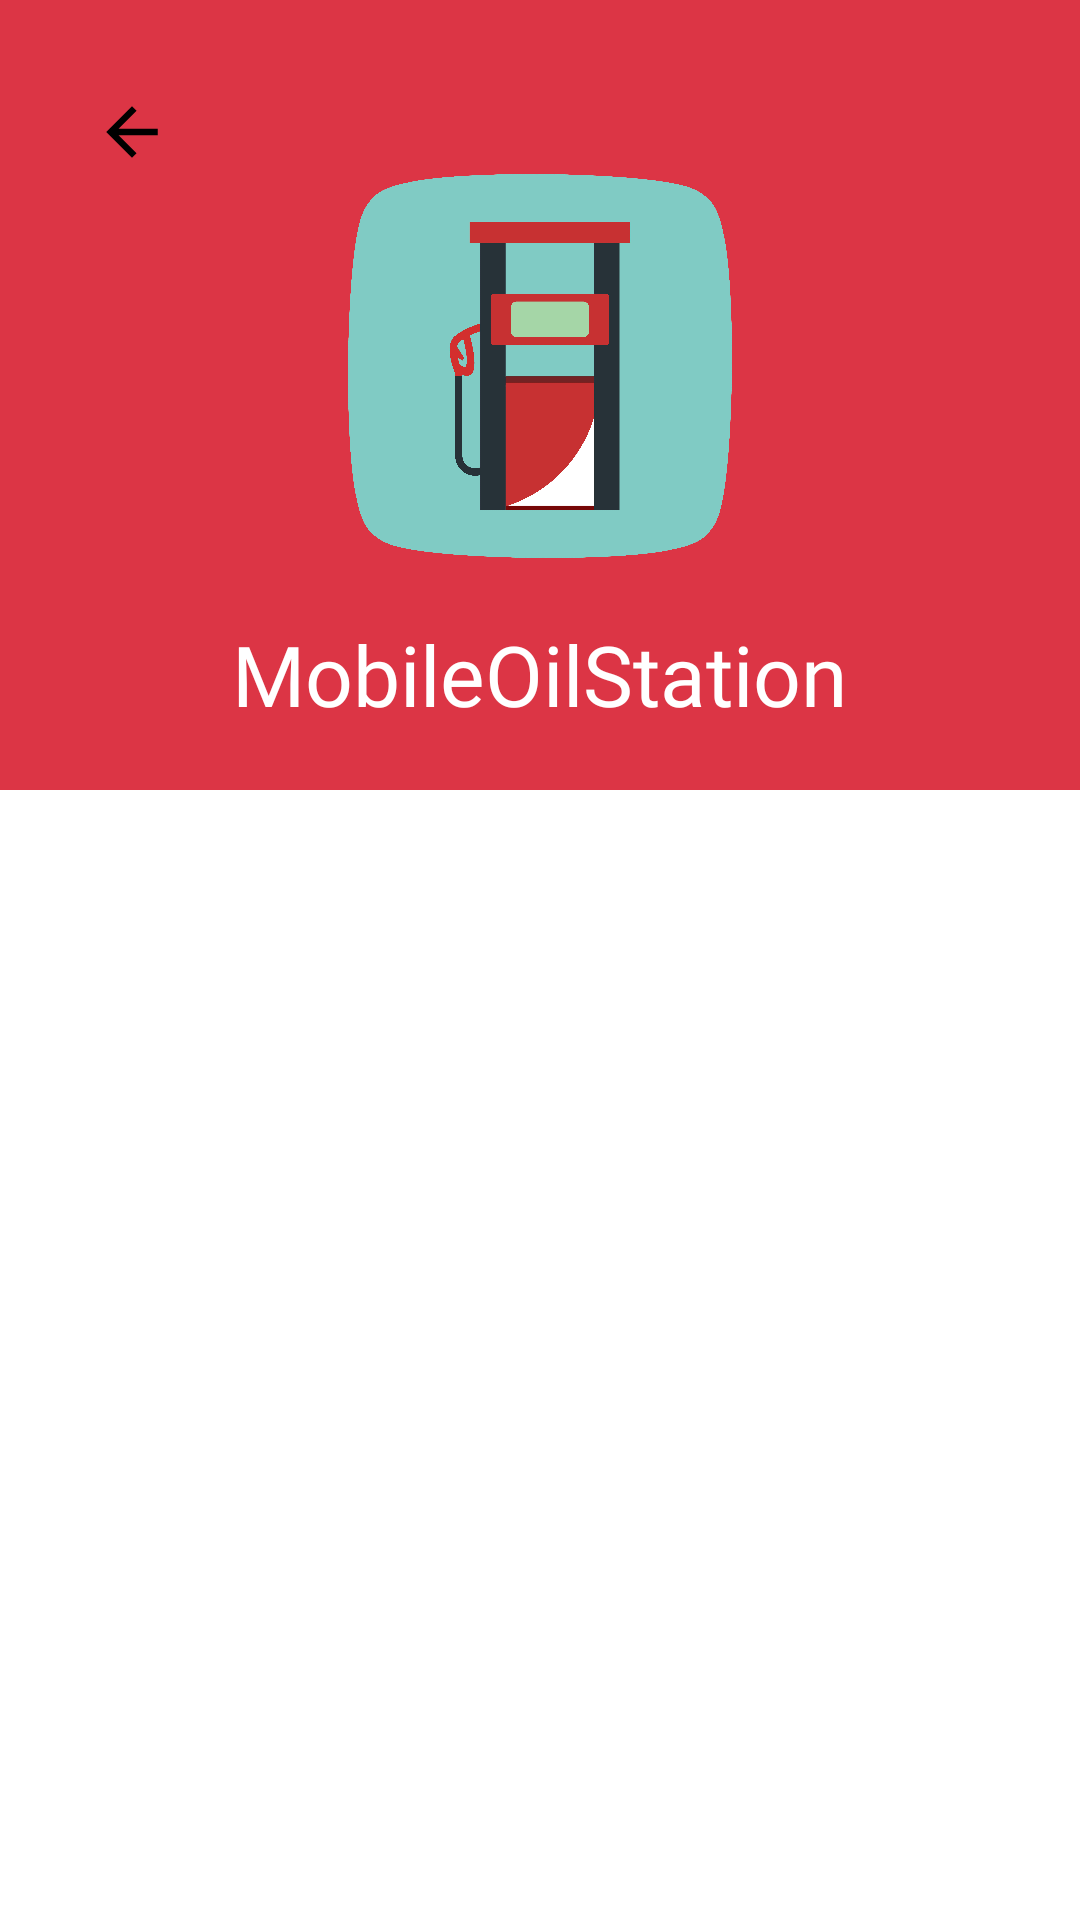

Where icons sit on this 1080px×1920px app screen, as [x1, y1, x2, y2]:
back: [106, 106, 158, 158]
